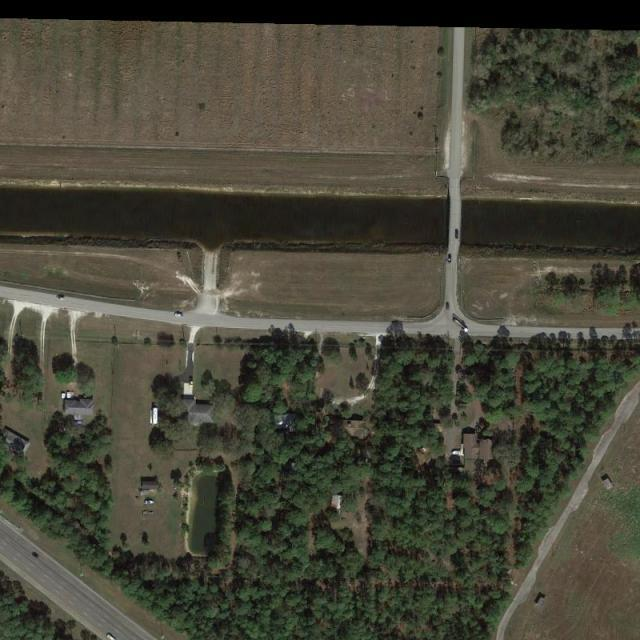vehicle: (453, 316, 469, 333), (176, 252, 184, 263), (55, 296, 65, 302), (106, 634, 116, 640), (32, 551, 39, 559), (174, 313, 183, 318), (448, 255, 452, 265), (190, 378, 194, 388), (446, 302, 450, 311), (455, 230, 459, 238)
